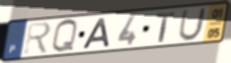4: (115, 14, 137, 47)
A: (81, 17, 112, 51)
Q: (50, 18, 79, 55)
R: (22, 21, 53, 56)
T: (155, 11, 176, 43)
U: (177, 7, 208, 43)
